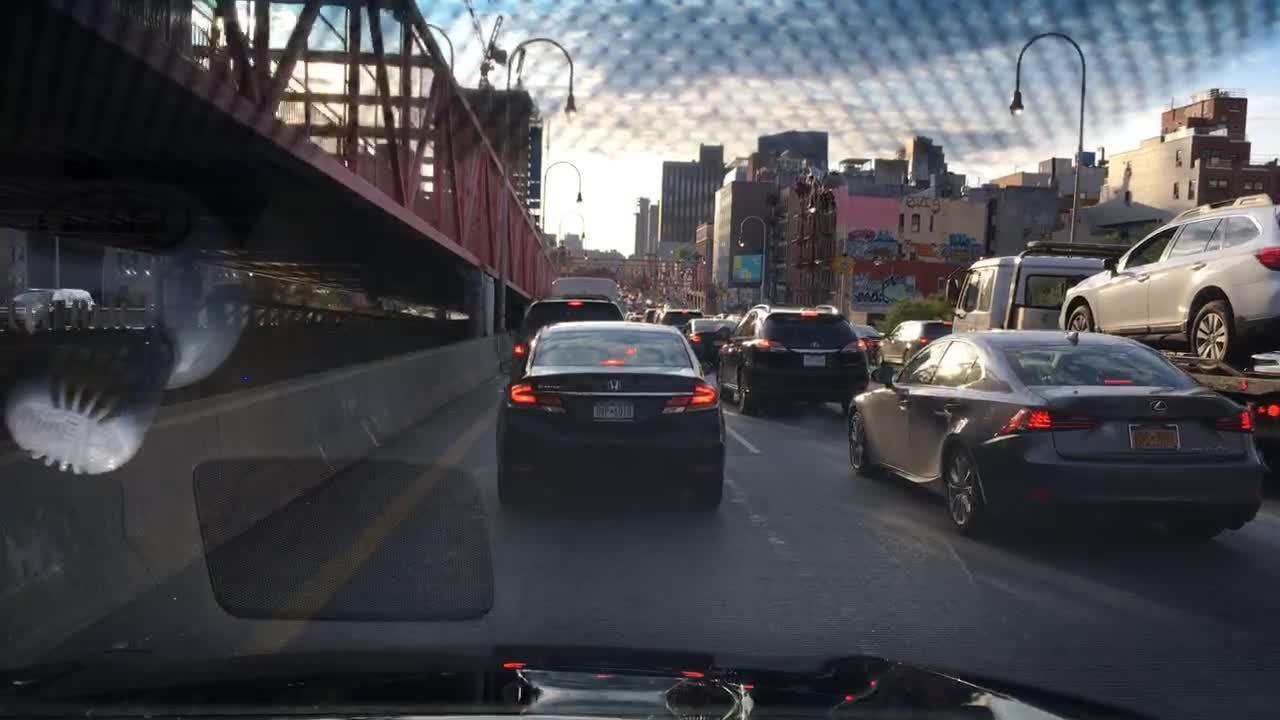Honda: (602, 377, 625, 394)
lexus: (1142, 396, 1174, 420)
